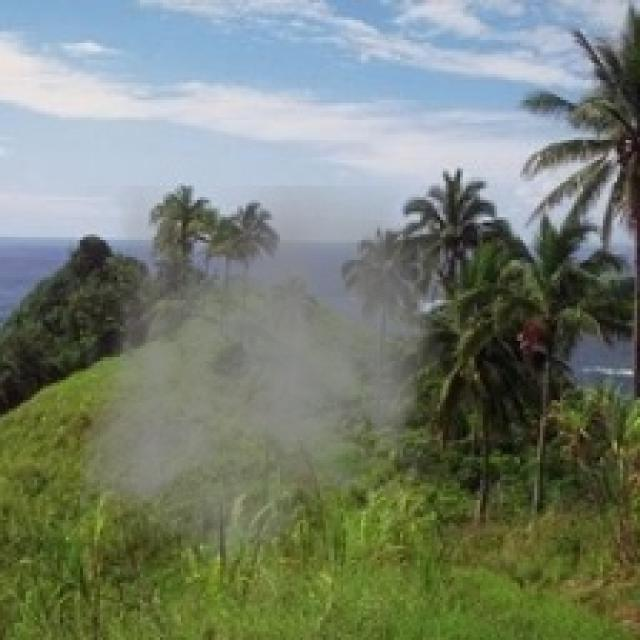Smoke: (80, 186, 443, 583)
